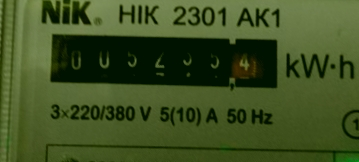0: (68, 45, 84, 71), (97, 43, 111, 68)
2: (152, 43, 166, 68)
3: (180, 41, 194, 66)
4: (237, 46, 252, 72)
5: (207, 42, 222, 69), (124, 43, 139, 69)
screen: (41, 24, 289, 95)
